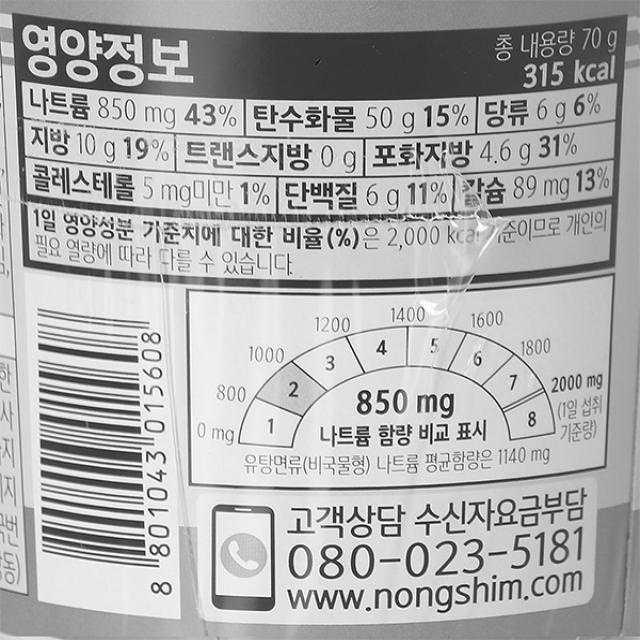Nutrition Label: (13, 7, 637, 290)
